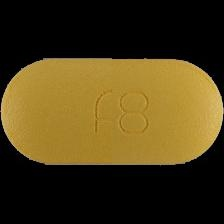65862-082: (0, 0, 224, 224)
